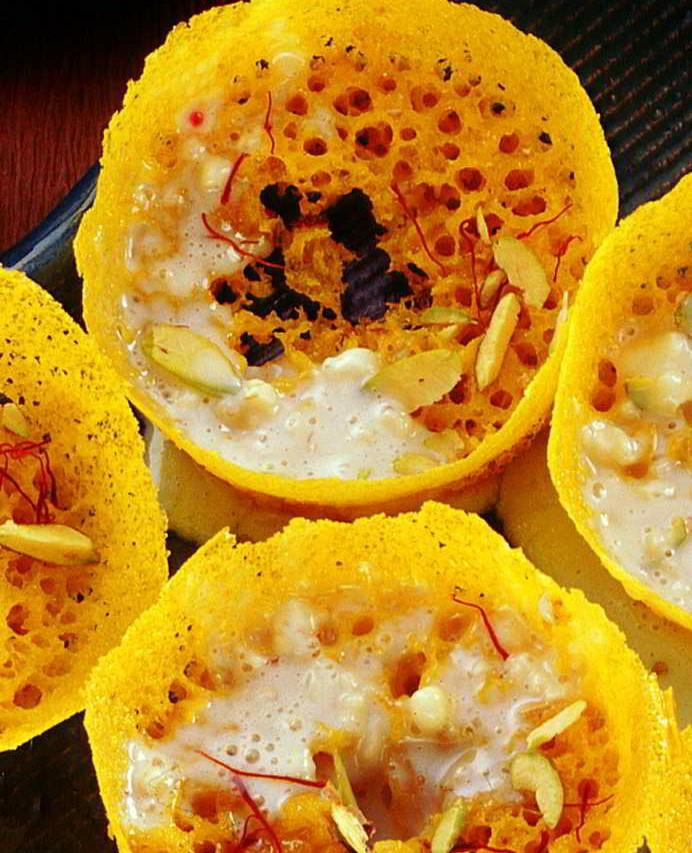Ghevar: (73, 0, 619, 506), (79, 499, 668, 853), (0, 261, 172, 754), (546, 166, 692, 620)
